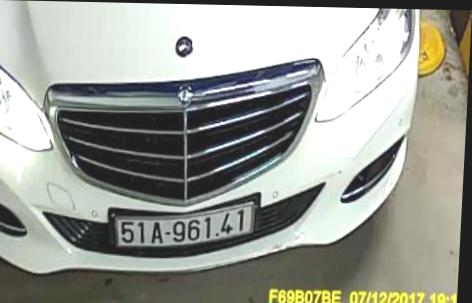License_Plate: (108, 204, 260, 256)
